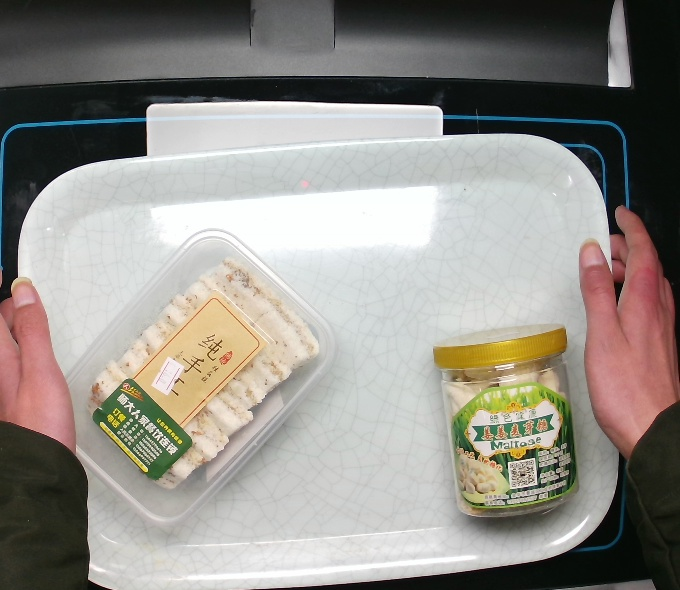wcq-GuiHuaGao: (57, 225, 339, 525)
wcq-MaiYaTang: (429, 319, 585, 521)
